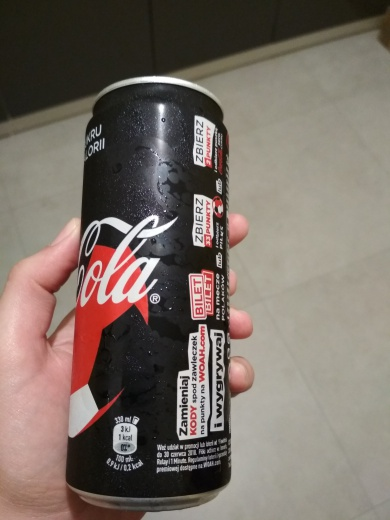colazero: (58, 65, 242, 516)
